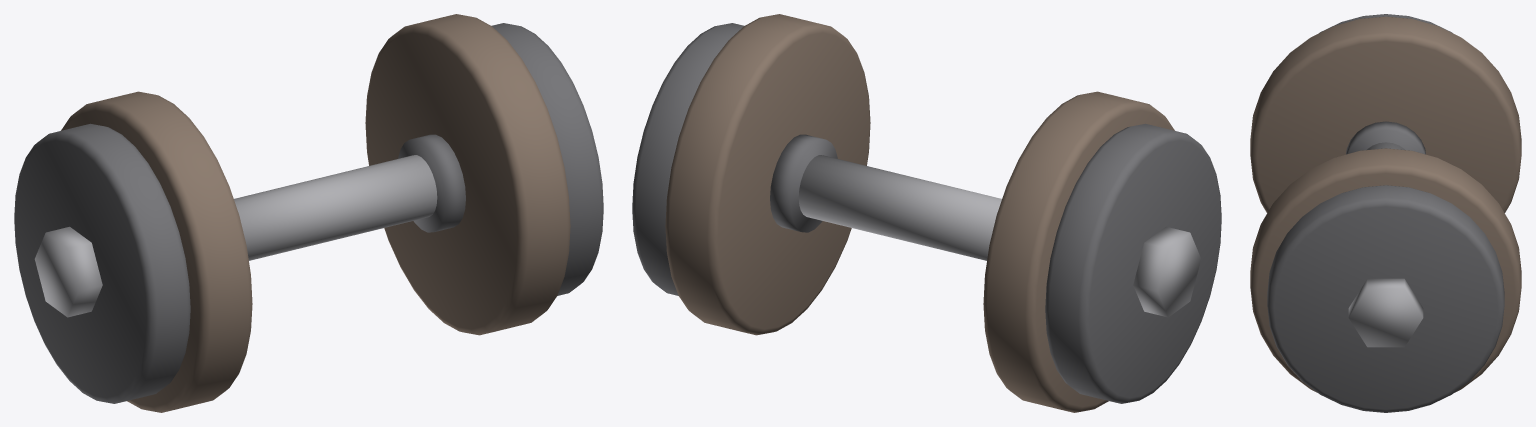
File: old_dumbbell.glb
3 renders of one model, left to right at view 1: azimuth 30°, elevation 25°; view 2: azimuth 150°, elevation 25°; view 3: azimuth 270°, elevation 25°, orthographic. The views are drawn at different scales.
Visible parts, largest first — view 1: Dumbbell_Plate_Inner.001, Dumbbell_Plate_Outer, Dumbbell_Plate_Inner, Dumbbell_Handle, Dumbbell_Plate_Outer.001, Dumbbell_End_Nut, Dumbbell_Collar.001; view 2: Dumbbell_Plate_Inner.001, Dumbbell_Plate_Outer, Dumbbell_Plate_Inner, Dumbbell_Handle, Dumbbell_Plate_Outer.001, Dumbbell_End_Nut, Dumbbell_Collar.001; view 3: Dumbbell_Plate_Outer.001, Dumbbell_Plate_Inner, Dumbbell_Plate_Inner.001, Dumbbell_End_Nut.001, Dumbbell_Collar, Dumbbell_Plate_Outer.
Part boxes in pixels (x1,y1,x2,y2): Dumbbell_Plate_Inner.001: (365, 14, 570, 335); Dumbbell_Plate_Outer: (14, 123, 190, 403); Dumbbell_Plate_Inner: (61, 91, 252, 412); Dumbbell_Handle: (234, 155, 437, 260); Dumbbell_Plate_Outer.001: (491, 23, 603, 295); Dumbbell_End_Nut: (34, 226, 102, 317); Dumbbell_Collar.001: (398, 134, 465, 232); Dumbbell_Plate_Inner.001: (665, 14, 870, 335); Dumbbell_Plate_Outer: (1045, 123, 1221, 403); Dumbbell_Plate_Inner: (983, 91, 1174, 412); Dumbbell_Handle: (798, 155, 1001, 260); Dumbbell_Plate_Outer.001: (632, 23, 744, 295); Dumbbell_End_Nut: (1133, 226, 1201, 317); Dumbbell_Collar.001: (770, 134, 837, 232); Dumbbell_Plate_Outer.001: (1267, 185, 1504, 412); Dumbbell_Plate_Inner: (1250, 16, 1521, 212); Dumbbell_Plate_Inner.001: (1250, 148, 1521, 392); Dumbbell_End_Nut.001: (1348, 278, 1423, 347); Dumbbell_Collar: (1346, 121, 1425, 154); Dumbbell_Plate_Outer: (1318, 14, 1453, 33).
Size of the model in its own units: 0.292 by 0.16 by 0.16.
